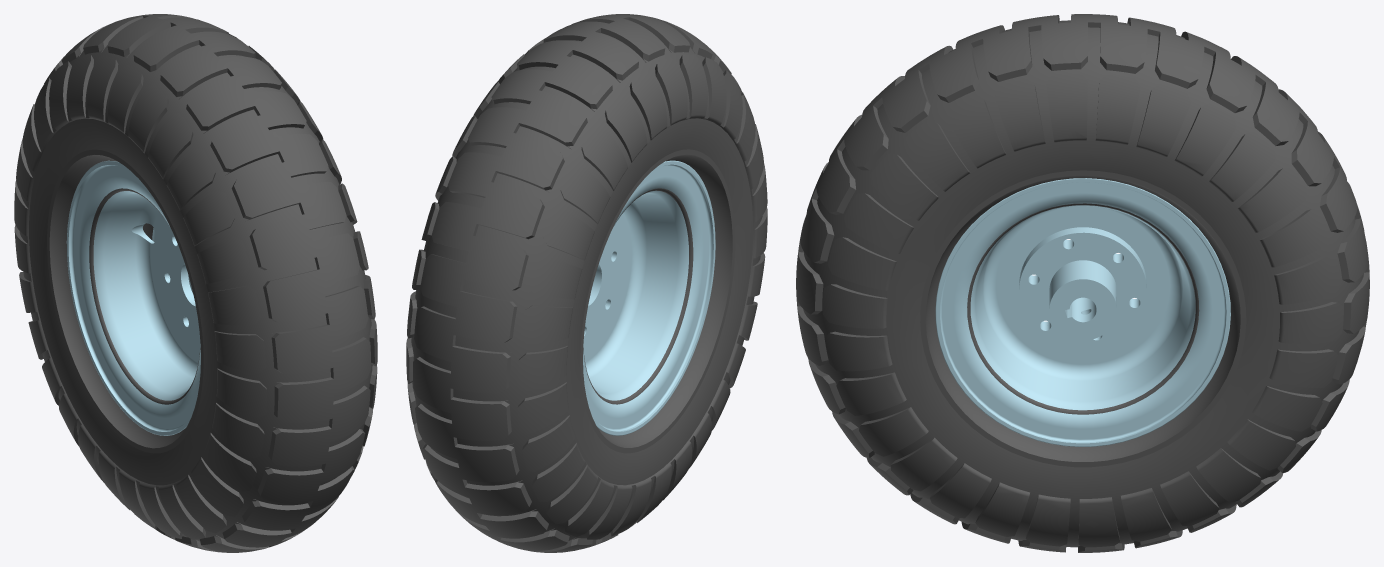
Rendered from ackermann_front_right_wheel.glb.
3 renders of one model, left to right at view 1: azimuth 30°, elevation 25°; view 2: azimuth 150°, elevation 25°; view 3: azimuth 270°, elevation 25°, orthographic. The views are drawn at different scales.
Parts seen in each view (by area): view 1: 10´胖̥£¨³凸Ö£©_1, 12·¨<_1_2_1_1; view 2: 10´胖̥£¨³凸Ö£©_1, 12·¨<_1_2_1_1; view 3: 10´胖̥£¨³凸Ö£©_1, 12·¨<_1_2_1_1.
Boxes of the visible parts, x1,y1,x2,y2 form: 10´胖̥£¨³凸Ö£©_1: [14, 14, 377, 552]; 12·¨<_1_2_1_1: [66, 160, 200, 435]; 10´胖̥£¨³凸Ö£©_1: [406, 14, 767, 552]; 12·¨<_1_2_1_1: [583, 160, 715, 435]; 10´胖̥£¨³凸Ö£©_1: [796, 14, 1369, 552]; 12·¨<_1_2_1_1: [935, 178, 1230, 446].
Size of the model in its own units: 0.082 by 0.255 by 0.255.
